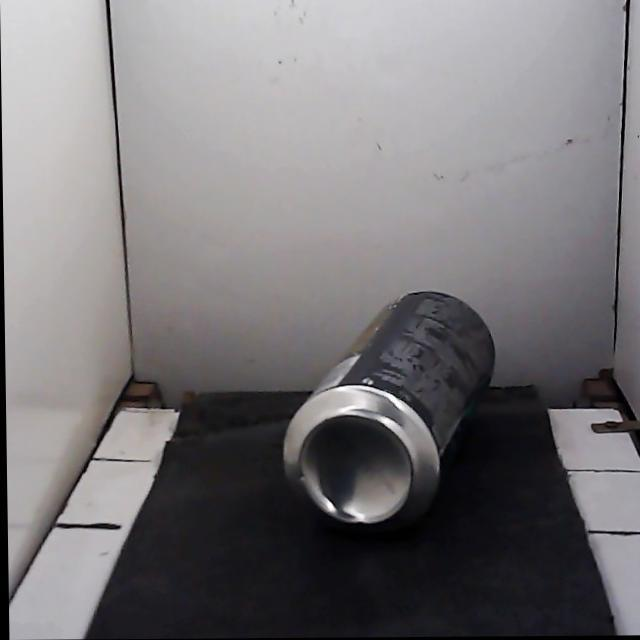metal: (283, 292, 494, 529)
